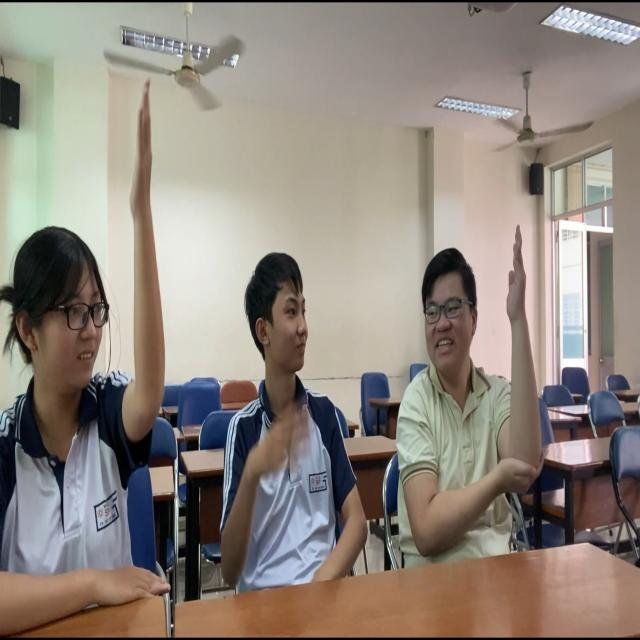raise_hand: (6, 58, 181, 640), (386, 212, 571, 581)
